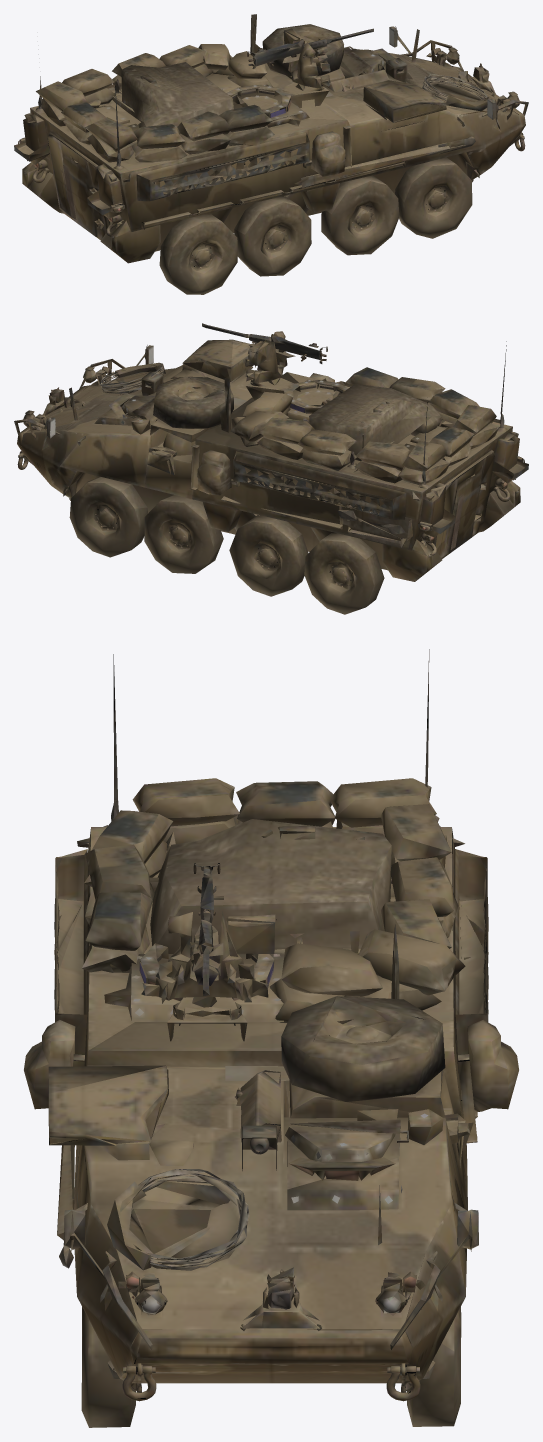
File: fh_battle_e_convoy_scout.glb
3 views of the same model, one above another, from view 1: azimuth 30°, elevation 25°; view 2: azimuth 150°, elevation 25°; view 3: azimuth 270°, elevation 25° (orthographic). The views are drawn at different scales.
Parts seen in each view (by area): view 1: convoy_scout, wheel_2r, wheel_1r, wheel_fr, wheel_f2r, turret; view 2: convoy_scout, wheel_2l, wheel_1l, wheel_fl, wheel_f2l, turret; view 3: convoy_scout, turret, wheel_fr, wheel_fl.
Boxes of the visible parts, x1=… form: convoy_scout: x1=14, y1=14, x2=528, y2=266; wheel_2r: x1=159, y1=214, x2=237, y2=294; wheel_1r: x1=234, y1=196, x2=311, y2=276; wheel_fr: x1=395, y1=157, x2=472, y2=238; wheel_f2r: x1=321, y1=175, x2=399, y2=255; turret: x1=237, y1=28, x2=373, y2=111; convoy_scout: x1=14, y1=339, x2=528, y2=587; wheel_2l: x1=304, y1=533, x2=384, y2=614; wheel_1l: x1=229, y1=515, x2=308, y2=596; wheel_fl: x1=69, y1=477, x2=147, y2=557; wheel_f2l: x1=144, y1=495, x2=223, y2=573; turret: x1=202, y1=323, x2=338, y2=406; convoy_scout: x1=24, y1=649, x2=518, y2=1401; turret: x1=141, y1=863, x2=276, y2=1019; wheel_fr: x1=81, y1=1307, x2=135, y2=1427; wheel_fl: x1=407, y1=1307, x2=460, y2=1426.
Size of the model in its own units: 0.9987 by 0.5093 by 0.4906.
1 material, 1 textured.
